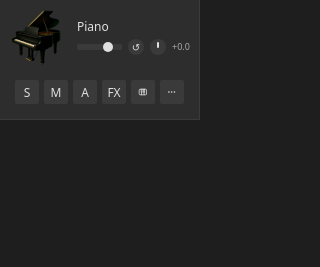
Scenario: TrackInfoItem audio import › renders the more-actions menu outside the scrollable track panel
What coordinates should you click on to do the following:
click the button named "更多操作"
I would click on:
 (172, 92)
Its box is [160, 80, 184, 104].
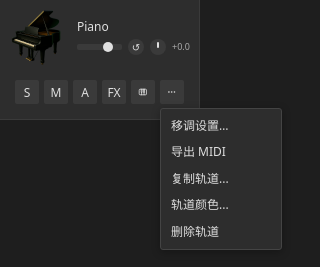
Expected: the element with class "track-settings-menu" is shown, [160, 108, 282, 250]
